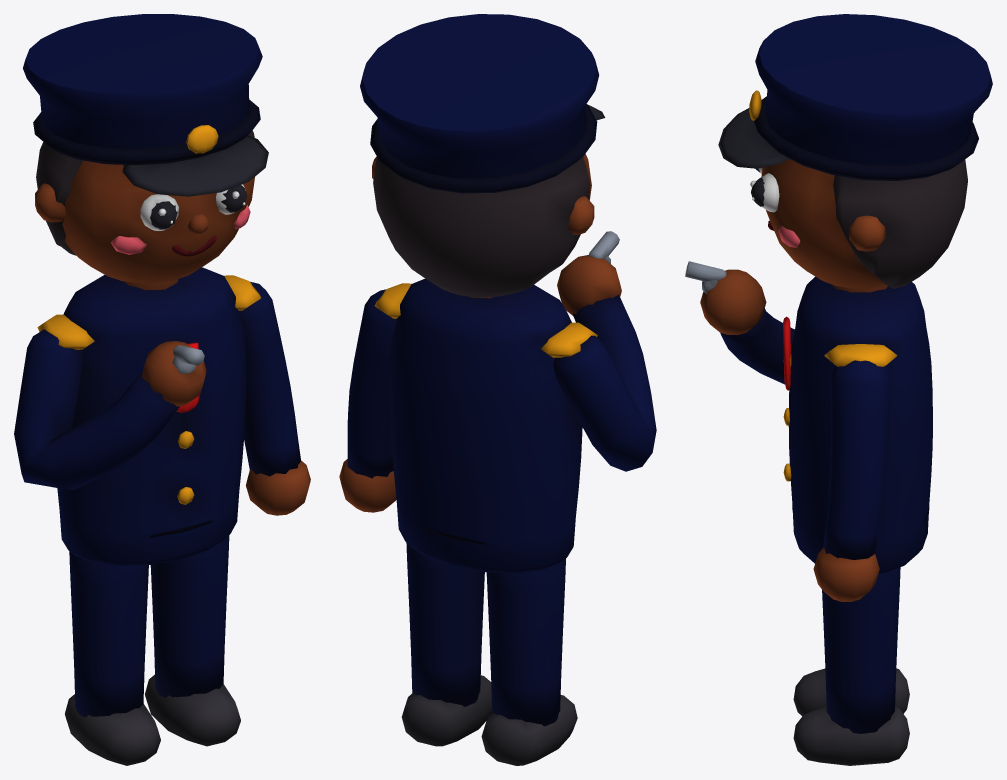
Rendered from Person_Conductor.fbx.
3 views of the same model, side by side, from view 1: azimuth 30°, elevation 25°; view 2: azimuth 150°, elevation 25°; view 3: azimuth 270°, elevation 25° (orthographic).
Visible parts, largest first — view 1: Person_Conductor, Head, ArmR, ArmL; view 2: Person_Conductor, Head, ArmR, ArmL; view 3: Head, Person_Conductor, ArmL, ArmR.
Boxes of the visible parts, x1,y1,x2,y2 form: Person_Conductor: (37,267,260,765); Head: (23,14,268,283); ArmR: (14,329,206,489); ArmL: (239,281,310,515); Person_Conductor: (374,278,597,765); Head: (360,14,605,297); ArmR: (553,231,656,471); ArmL: (339,289,396,512); Head: (718,14,992,288); Person_Conductor: (783,276,932,765); ArmL: (813,360,890,601); ArmR: (685,261,794,384).
Size of the model in its own units: 0.5558 by 1.24 by 0.5022.
